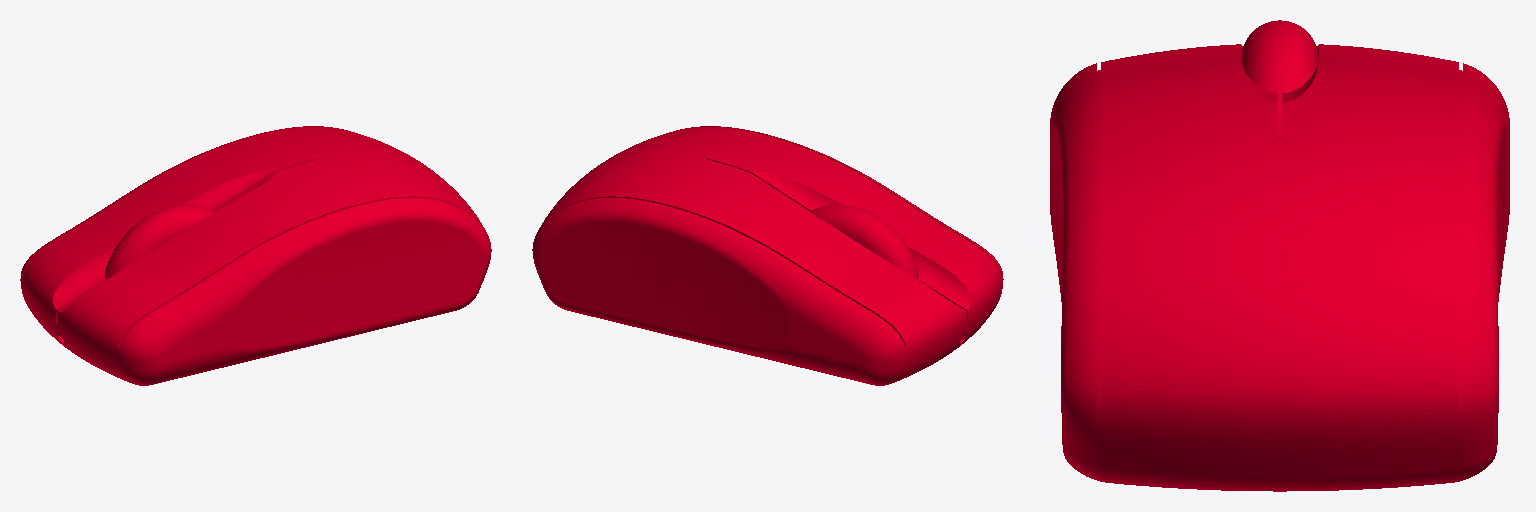
URDF robot description (mouse):
<robot name="mouse">
	<link name="_name">
		<visual>
			<origin xyz="-0.009148408167221166 0.0003092983269439314 -1.9325972999523148e-05" rpy="0 0 0" />
			<geometry>
				<mesh filename="mouse.obj" scale="0.8 0.8 0.8" />
			</geometry>
       		<material name="red">
        		<color rgba="0.9 0 0.2 1.0"/>
      		</material>
		</visual>
		<collision>
			<geometry>
				<mesh filename="mouse_vhacd.obj" scale="0.8 0.8 0.8" />
			</geometry>
		<origin xyz="-0.009148408167221166 0.0003092983269439314 -1.9325972999523148e-05" rpy="0 0 0" /></collision>
		<inertial>
			<mass value="1.0" />
			<inertia ixx="1.0" ixy="0.0" ixz="0.0" iyy="1.0" iyz="0.0" izz="1.0" />
		</inertial>
	</link>
</robot>

--- Render facts (derived) ---
The picture shows the robot from 3 angles, left to right: view 1: azimuth 30°, elevation 25°; view 2: azimuth 150°, elevation 25°; view 3: azimuth 270°, elevation 25°; orthographic projection.
Model mouse with 1 links and 0 joints (none), rooted at _name, posed every joint at zero.
Links seen in each view (by area): view 1: _name; view 2: _name; view 3: _name.
Boxes of the visible links, bbox=[...] form: _name: bbox=[20, 126, 491, 385]; _name: bbox=[532, 126, 1003, 385]; _name: bbox=[1050, 20, 1509, 491].
Bounding box of the posed robot: 0.104 × 0.0556 × 0.0347 m (x, y, z).
1 mesh visuals loaded from 1 distinct referenced files (1 OBJ).
